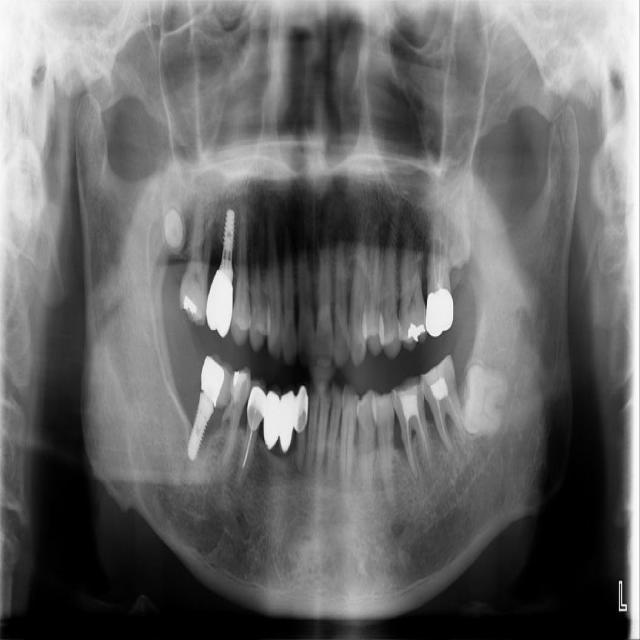3M ESPE Implant: (161, 209, 186, 250)
52: (242, 375, 312, 459), (410, 353, 472, 412), (385, 372, 435, 427), (204, 269, 236, 338), (199, 353, 234, 409), (398, 294, 428, 351), (179, 270, 209, 326), (223, 363, 254, 416), (425, 281, 453, 337)
73: (427, 391, 475, 456), (399, 413, 438, 482), (209, 403, 244, 469), (234, 420, 261, 490), (427, 210, 451, 287), (598, 554, 603, 554)
BioHorizons Implant: (425, 213, 456, 338)
Biomet 3i Implant: (455, 363, 514, 440)
Blue Sky Bio Implant: (415, 354, 471, 456)
Caries: (176, 190, 218, 327)
